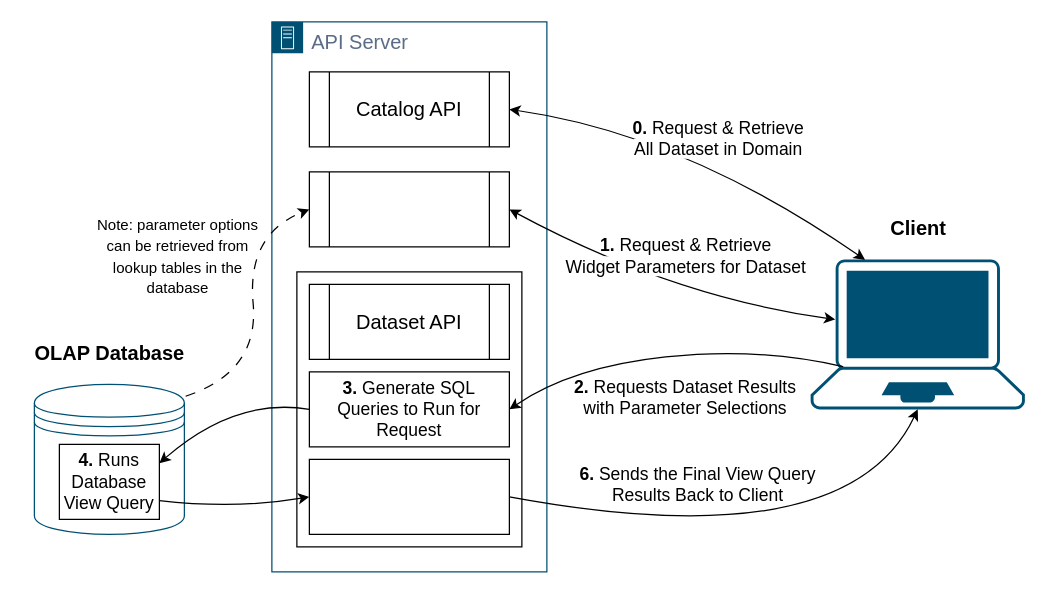
The diagram is 1046 pixels wide and 594 high, and some of its shapes have lost their labels. Each missing label, with the centre of its shape:
5. Runs Final View Query in an In-Memory Database: the point at 408,496
Parameters API: the point at 408,209
